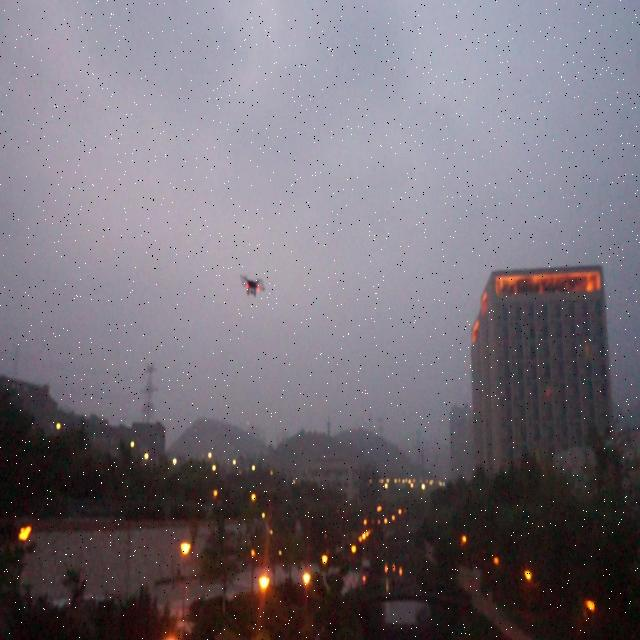UAV: (240, 275, 265, 297)
